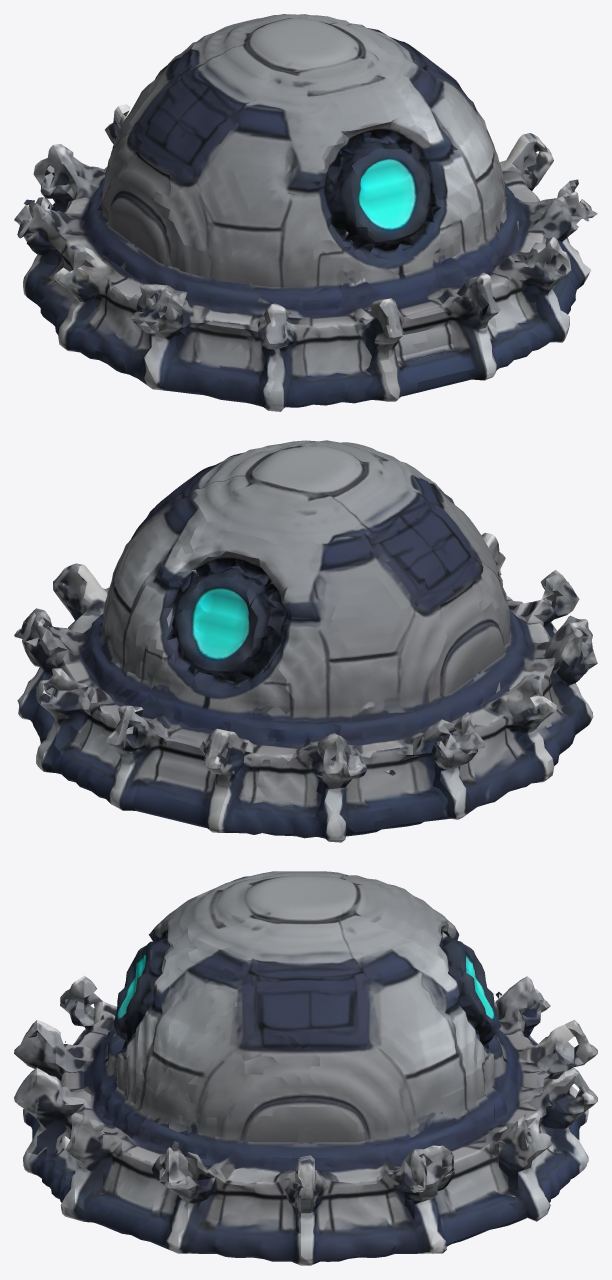
File: AICore.glb
3 views of the same model, one above another, from view 1: azimuth 30°, elevation 25°; view 2: azimuth 150°, elevation 25°; view 3: azimuth 270°, elevation 25° (orthographic).
Visible parts, largest first — view 1: tmpjai0nld0.ply; view 2: tmpjai0nld0.ply; view 3: tmpjai0nld0.ply.
Boxes of the visible parts, left/top/right/bottom form: tmpjai0nld0.ply: left=14, top=14, right=597, bottom=411; tmpjai0nld0.ply: left=14, top=440, right=597, bottom=842; tmpjai0nld0.ply: left=14, top=871, right=597, bottom=1265.
Bounding box in the file's own units: 1.92 × 0.9327 × 1.93.
Materials: 1 (1 with a texture image).
